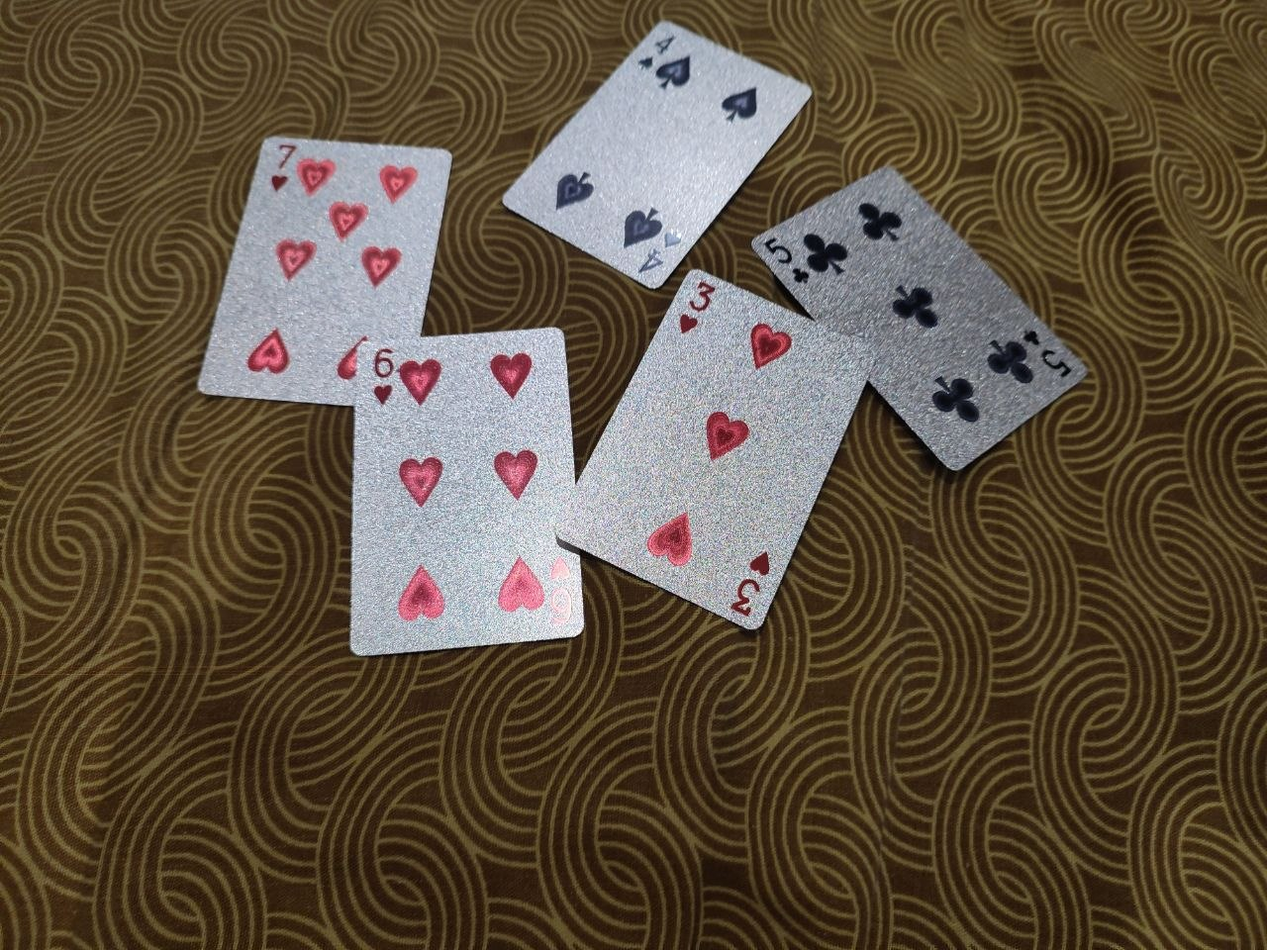3H: (551, 266, 879, 633)
4S: (501, 17, 818, 291)
5C: (748, 159, 1091, 475)
6H: (345, 326, 587, 658)
7H: (194, 132, 454, 406)
